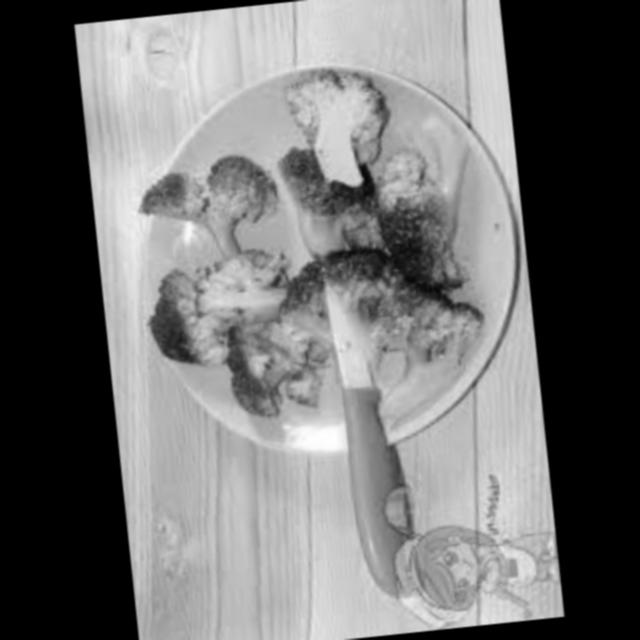bong cai xanh: (262, 60, 402, 268), (365, 130, 497, 342), (142, 135, 299, 291), (358, 294, 496, 429), (213, 312, 334, 432), (134, 268, 295, 356)
